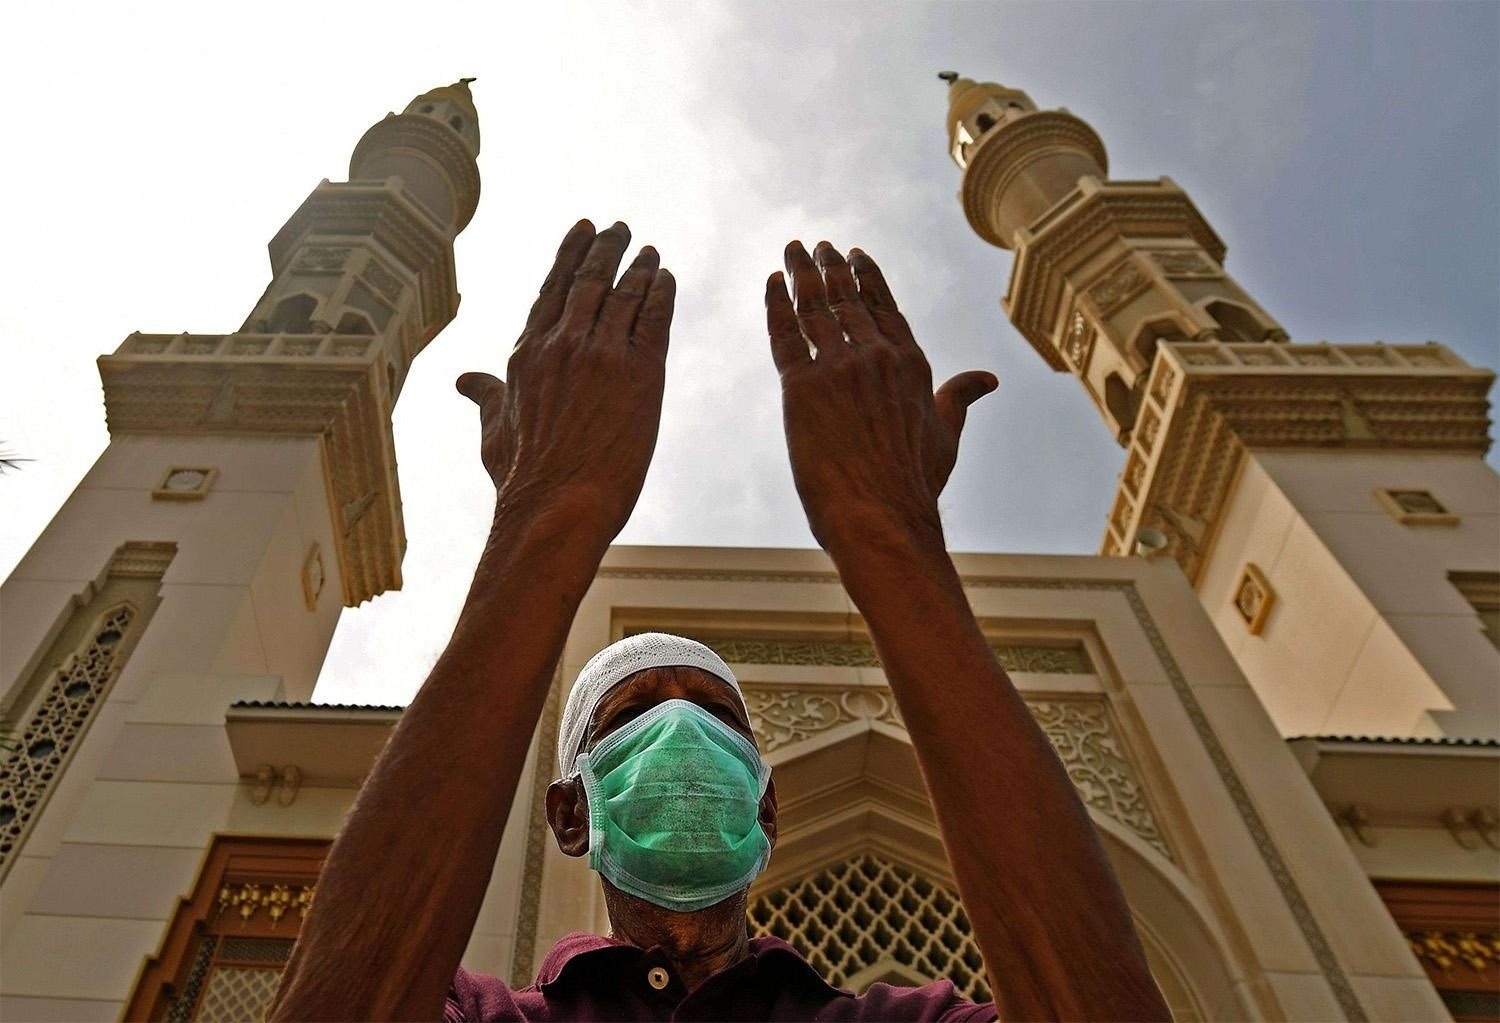face_with_mask: (542, 633, 777, 914)
